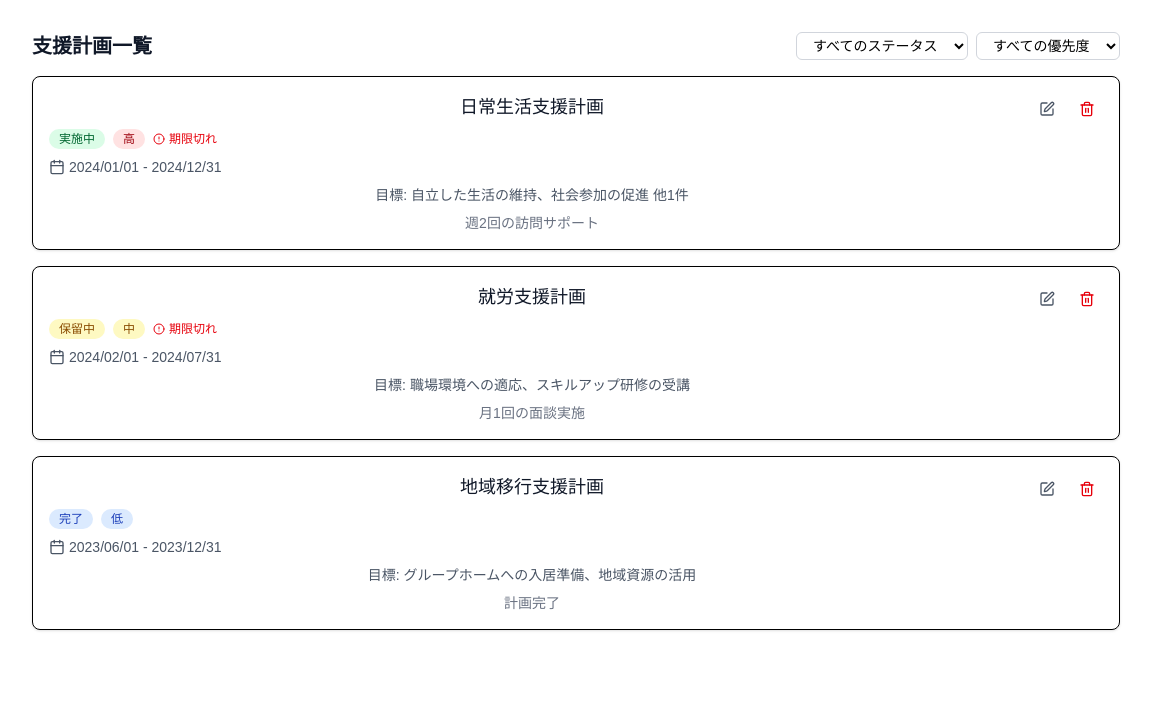
Test: SupportPlanList › フィルタリング・ソート › ステータスでフィルタリングできる
The width and height of the screenshot is (1152, 720).
Select "実施中" in the dropdown named "ステータス" at [882, 46], box top-left (796, 32), bottom-right (968, 60)
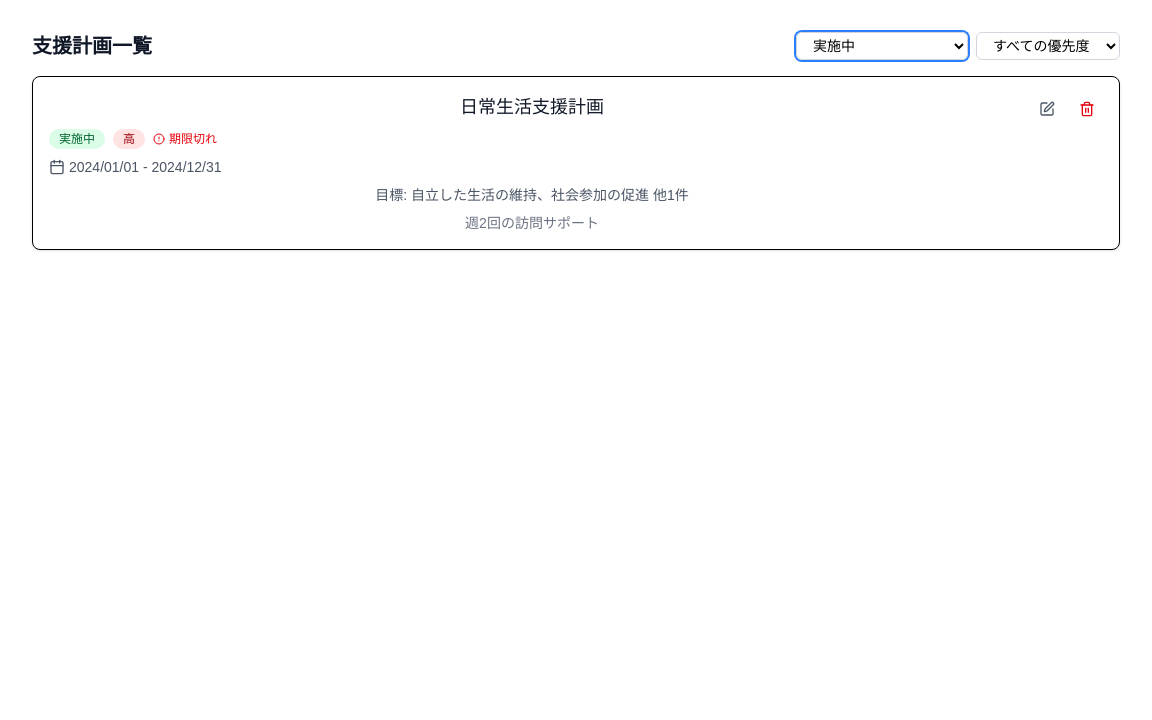
Check: the link "日常生活支援計画" is shown, box top-left (460, 97), bottom-right (604, 117)
Check: the link "就労支援計画" is gone
Check: the link "地域移行支援計画" is gone
